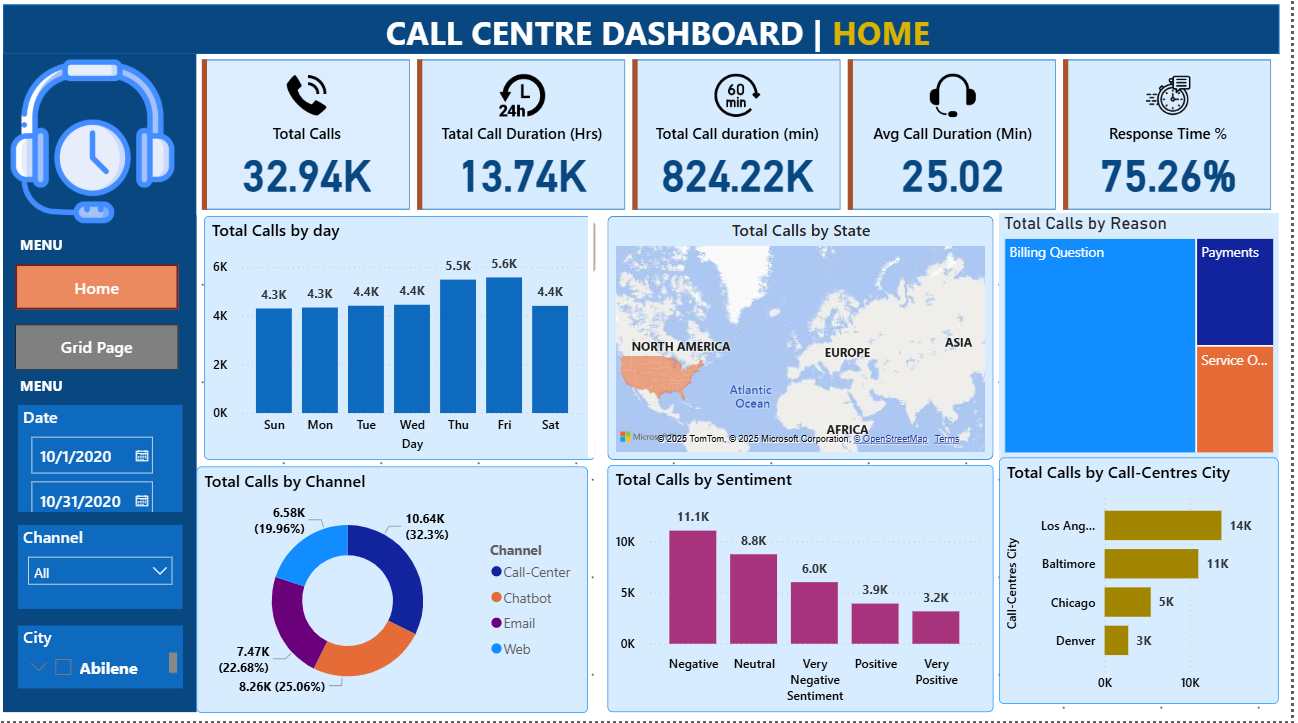

The page's visual inventory and layout, read from the dashboard file:
{"tool":"powerbi","page":{"name":"Home ","canvas":[1280,720],"ordinal":0},"visuals":[{"type":"shape","box":[11.3,13.2,1256.7,49.1],"z":0},{"type":"shape","box":[11.3,62.4,190.9,648.2],"z":1000},{"type":"cardVisual","fields":{"Data":["Call Center_Call Center.Total Calls","Call Center_Call Center.Tatal Call Duration (Hrs)","Call Center_Call Center.Total Call duration (min)","Call Center_Call Center.Avg Call Duration (Min)","Call Center_Call Center.Response Time %"]},"box":[202.2,62.4,1065.8,158.7],"z":2000},{"type":"textbox","box":[383.6,13.2,608.5,64.3],"z":3000},{"type":"columnChart","fields":{"Category":["Date Table.day"],"Y":["Call Center_Call Center.Total Calls"]},"box":[209.8,221.1,385.5,240],"z":4000},{"type":"tableEx","fields":{"Values":["Sum(Date Table.Day No)","Date Table.Date.Variation.Date Hierarchy.Year","Date Table.Date.Variation.Date Hierarchy.Quarter","Date Table.Date.Variation.Date Hierarchy.Month","Date Table.Date.Variation.Date Hierarchy.Day"]},"box":[587.7,221.1,13.2,238.1],"z":5000},{"type":"filledMap","fields":{"Category":["Call Center_Call Center.State"]},"box":[606.6,221.1,380,240],"z":6000},{"type":"treemap","fields":{"Group":["Call Center_Call Center.Reason"],"Values":["Call Center_Call Center.Total Calls"]},"box":[992.6,218.6,275.3,241.3],"z":7000},{"type":"donutChart","fields":{"Category":["Call Center_Call Center.Channel"],"Y":["Call Center_Call Center.Total Calls"]},"box":[202.4,468,385.4,242.9],"z":8000},{"type":"columnChart","fields":{"Category":["Call Center_Call Center.Sentiment"],"Y":["Call Center_Call Center.Total Calls"]},"box":[607,466,380,243],"z":9000},{"type":"clusteredBarChart","fields":{"Category":["Call Center_Call Center.Call-Centres City"],"Y":["Call Center_Call Center.Total Calls"]},"box":[992.6,459.9,275.3,242.9],"z":10000},{"type":"slicer","title":"Date","fields":{"Values":["Date Table.Date"]},"box":[25.9,408,161.9,105.2],"z":11000},{"type":"slicer","title":"Channel","fields":{"Values":["Call Center_Call Center.Channel","Date Table.Date"]},"box":[25.9,526.2,161.9,82.6],"z":12000},{"type":"slicer","title":"City","fields":{"Values":["Call Center_Call Center.City","Date Table.Date"]},"box":[25.9,625,161.9,61.5],"z":13000},{"type":"image","box":[13.2,62.4,173.9,172],"z":14000},{"type":"pageNavigator","box":[24.3,268.8,161.9,105.2],"z":15000},{"type":"textbox","box":[24.3,234.8,74.5,35.6],"z":16000},{"type":"textbox","box":[24.3,374,64.8,37.2],"z":16002}]}

Visuals, with their boxes in screenshot pixels (x1, y1, x2, y2), scaled from the page's 1280x720 canvas onto the 1298x723 screenshot:
shape: (11, 13, 1286, 63)
shape: (11, 63, 205, 714)
cardVisual - Call Center_Call Center.Total Calls x Call Center_Call Center.Tatal Call Duration (Hrs): (205, 63, 1286, 222)
textbox: (389, 13, 1006, 78)
columnChart - Date Table.day x Call Center_Call Center.Total Calls: (213, 222, 604, 463)
tableEx - Sum(Date Table.Day No) x Date Table.Date.Variation.Date Hierarchy.Year: (596, 222, 609, 461)
filledMap - Call Center_Call Center.State: (615, 222, 1000, 463)
treemap - Call Center_Call Center.Reason x Call Center_Call Center.Total Calls: (1007, 220, 1286, 462)
donutChart - Call Center_Call Center.Channel x Call Center_Call Center.Total Calls: (205, 470, 596, 714)
columnChart - Call Center_Call Center.Sentiment x Call Center_Call Center.Total Calls: (616, 468, 1001, 712)
clusteredBarChart - Call Center_Call Center.Call-Centres City x Call Center_Call Center.Total Calls: (1007, 462, 1286, 706)
"Date" slicer: (26, 410, 190, 515)
"Channel" slicer: (26, 528, 190, 611)
"City" slicer: (26, 628, 190, 689)
image: (13, 63, 190, 235)
pageNavigator: (25, 270, 189, 376)
textbox: (25, 236, 100, 272)
textbox: (25, 376, 90, 413)
